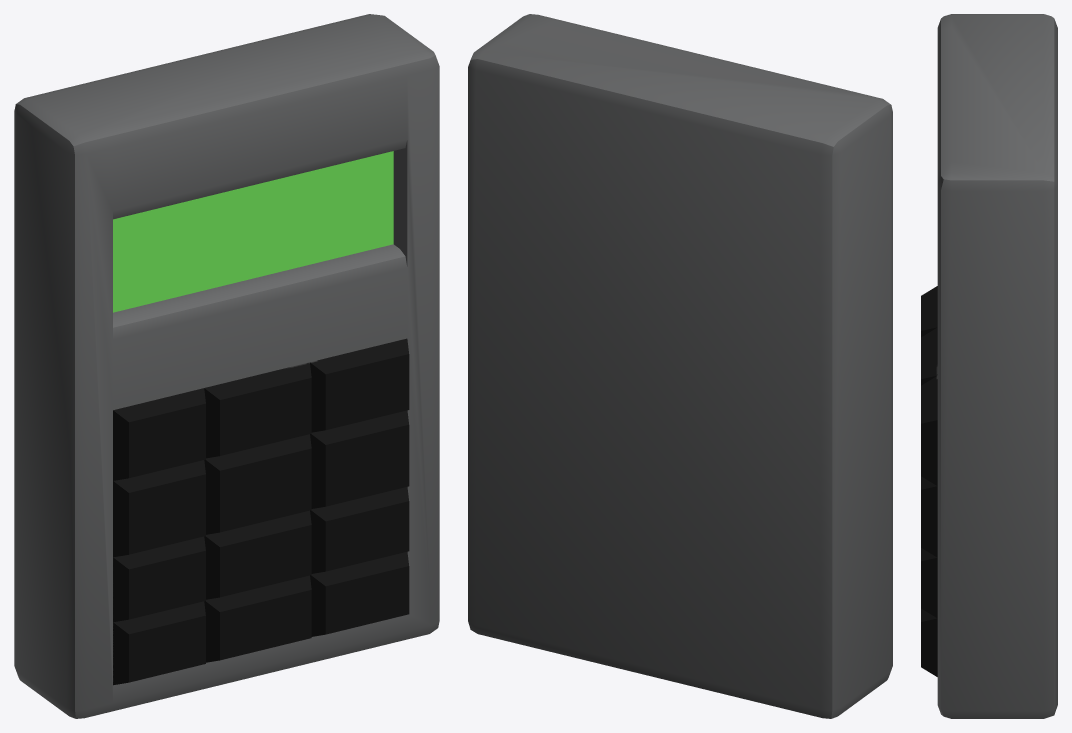
File: panel.fbx
The picture shows the model from 3 angles, left to right: view 1: azimuth 30°, elevation 25°; view 2: azimuth 150°, elevation 25°; view 3: azimuth 270°, elevation 25°; orthographic projection. The views are drawn at different scales.
Parts seen in each view (by area): view 1: Panel; view 2: Panel; view 3: Panel.
Part boxes in pixels (bbox=[...]): Panel: bbox=[14, 14, 439, 718]; Panel: bbox=[468, 14, 892, 718]; Panel: bbox=[921, 14, 1057, 718].
Size of the model in its own units: 100 by 150 by 34.11.
1 material, 1 textured.
